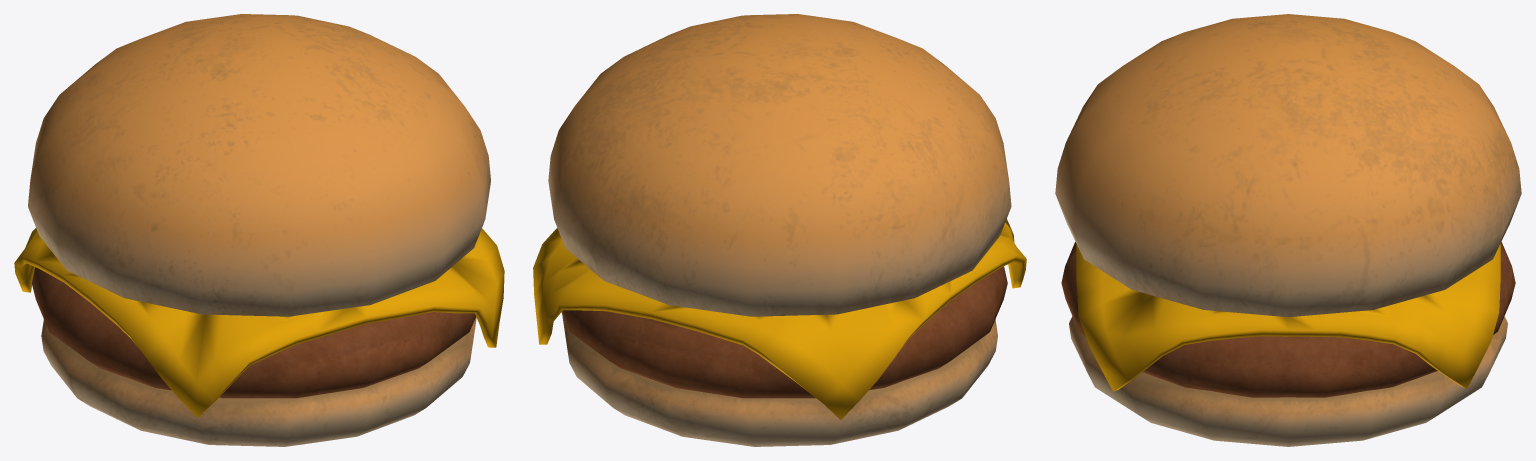
The model's file is Burger.glb.
3 renders of one model, left to right at view 1: azimuth 30°, elevation 25°; view 2: azimuth 150°, elevation 25°; view 3: azimuth 270°, elevation 25°, orthographic.
Visible parts, largest first — view 1: Bun.B; view 2: Bun.B; view 3: Bun.B.
Part boxes in pixels (x1,y1,x2,y2): Bun.B: (14, 14, 504, 446); Bun.B: (533, 14, 1026, 446); Bun.B: (1055, 14, 1521, 446).
Size of the model in its own units: 2.51 by 2.01 by 2.51.
1 material, 1 textured.
